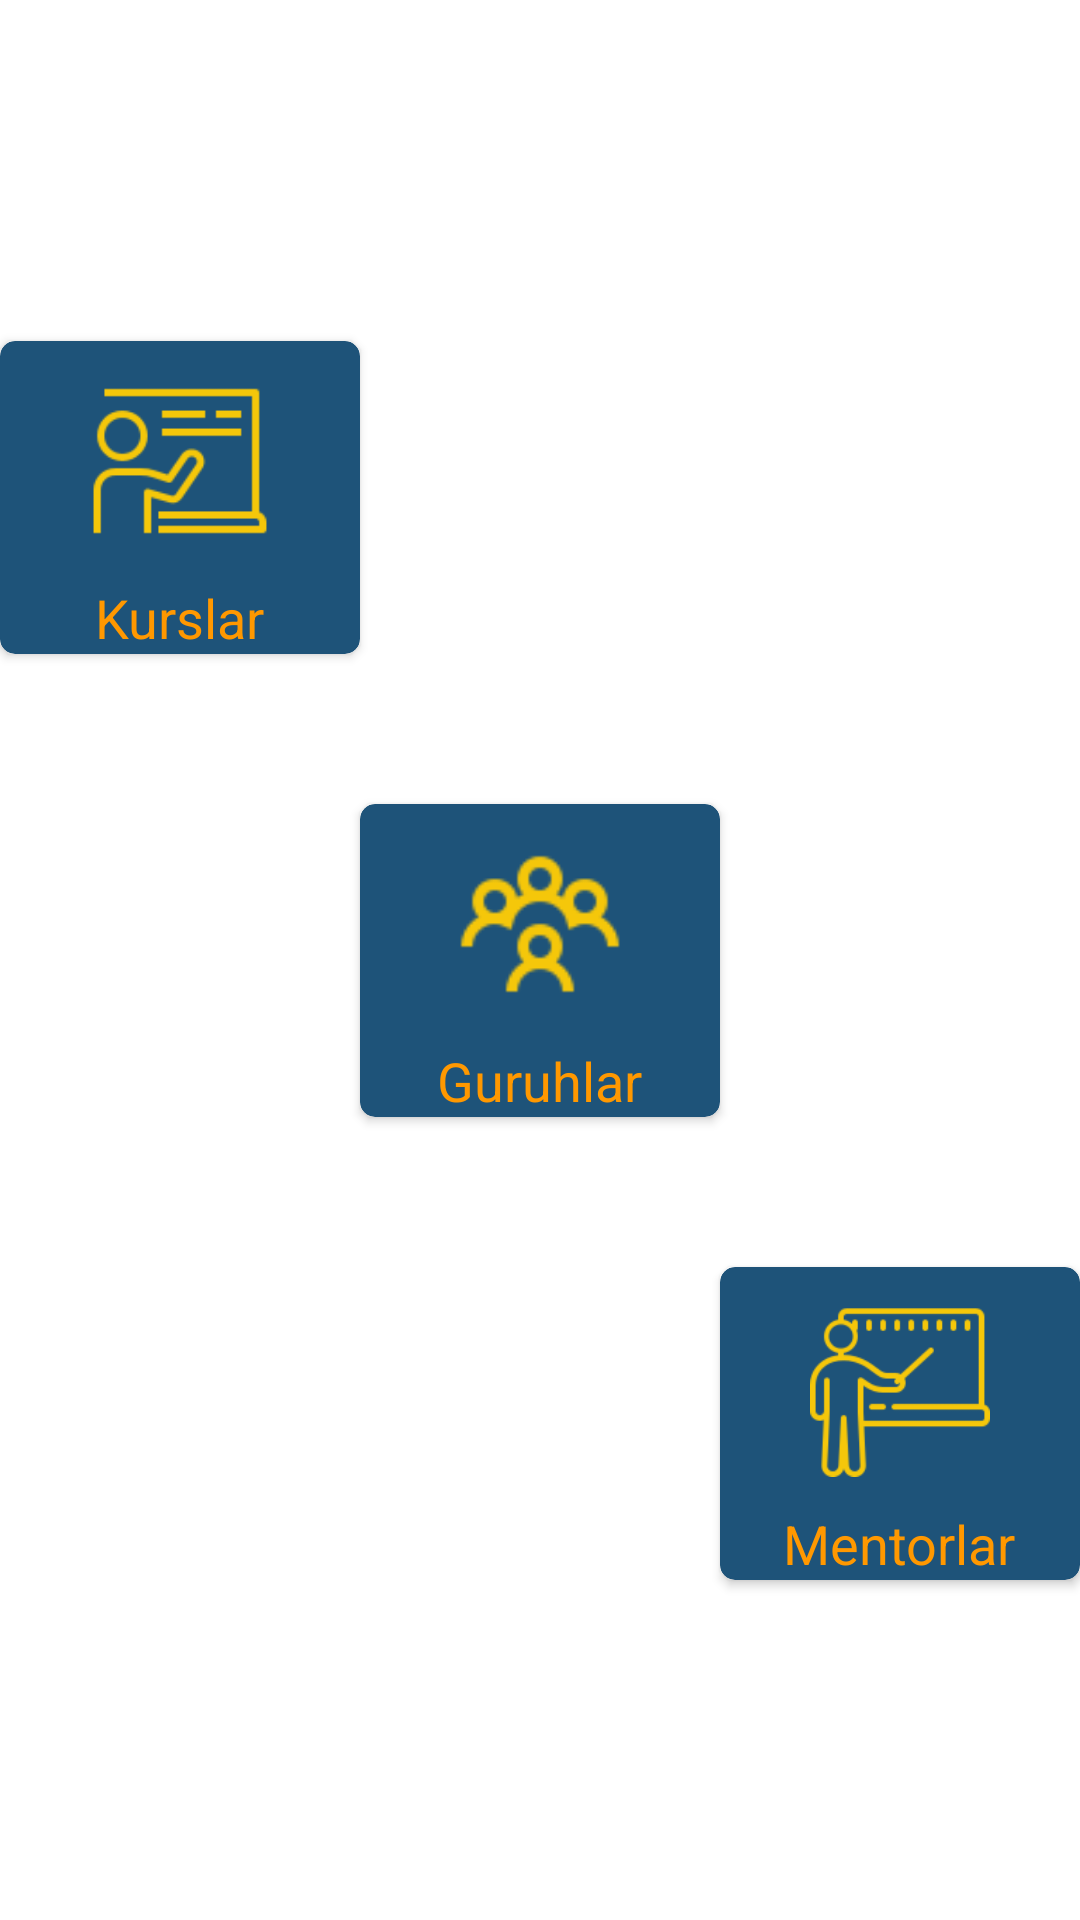

Icon click points for this 1080x1920 phone screenshot, format (x=x, y=y):
conference: (x=540, y=924)
